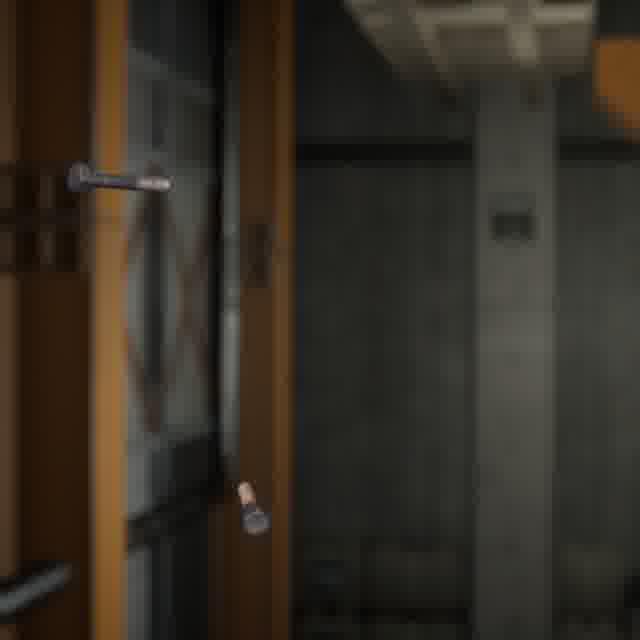bolt: (63, 159, 175, 197), (233, 478, 275, 541)
